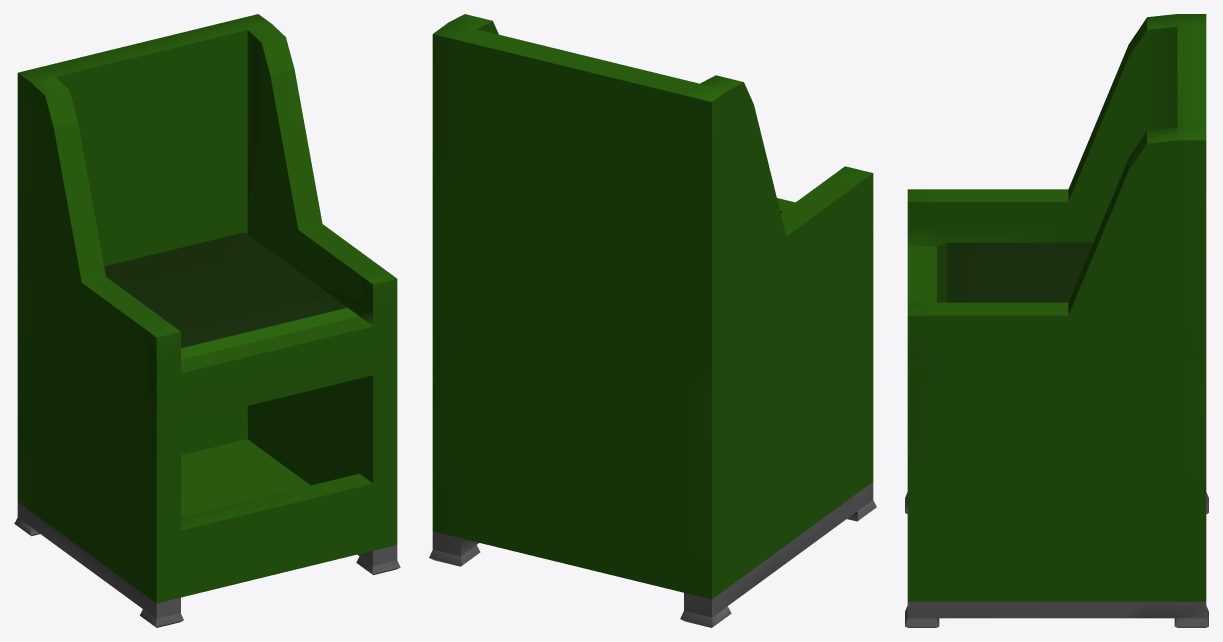
File: chair2.obj
3 renders of one model, left to right at view 1: azimuth 30°, elevation 25°; view 2: azimuth 150°, elevation 25°; view 3: azimuth 270°, elevation 25°, orthographic. The views are drawn at different scales.
Visible parts, largest first — view 1: Chair3.001; view 2: Chair3.001; view 3: Chair3.001.
Boxes of the visible parts, bbox=[...] form: Chair3.001: bbox=[14, 14, 400, 627]; Chair3.001: bbox=[429, 14, 876, 627]; Chair3.001: bbox=[905, 14, 1208, 627].
Bounding box in the file's own units: 2.04 × 3.6 × 2.03.
